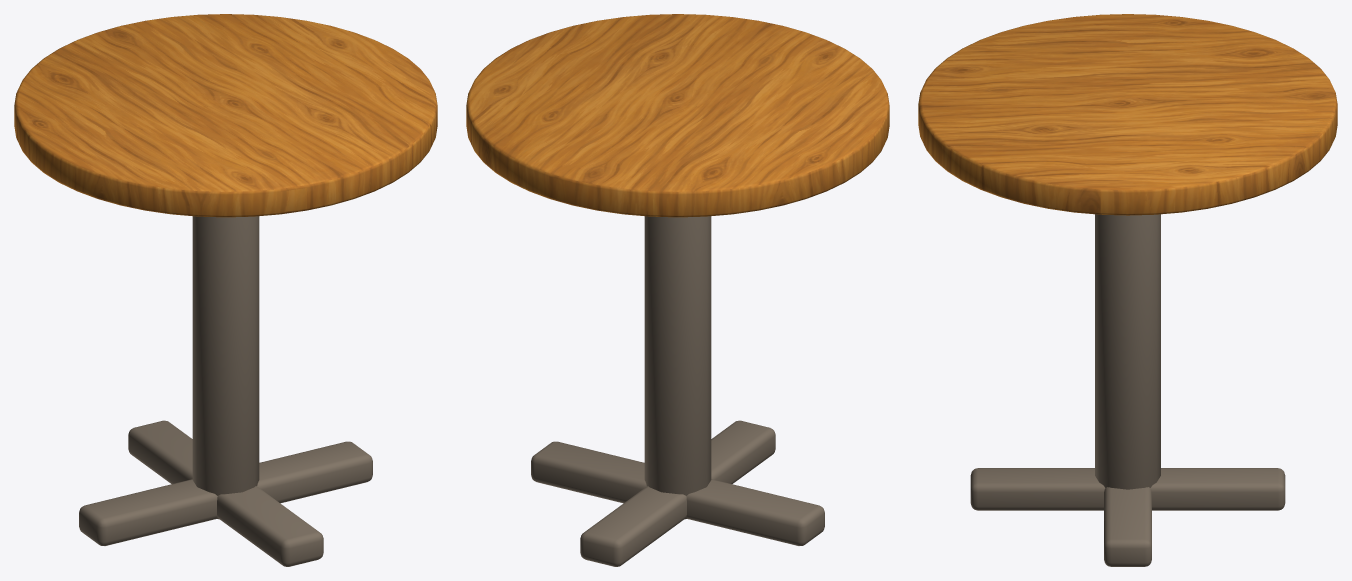
The model's file is patio-bistro-table.glb.
The picture shows the model from 3 angles, left to right: view 1: azimuth 30°, elevation 25°; view 2: azimuth 150°, elevation 25°; view 3: azimuth 270°, elevation 25°; orthographic projection.
Visible parts, largest first — view 1: patio-bistro-table; view 2: patio-bistro-table; view 3: patio-bistro-table.
Boxes of the visible parts, x1=… form: patio-bistro-table: x1=14, y1=14, x2=437, y2=566; patio-bistro-table: x1=466, y1=14, x2=889, y2=566; patio-bistro-table: x1=918, y1=14, x2=1337, y2=566.
Bounding box in the file's own units: 0.7 × 0.74 × 0.7.
2 materials, 1 textured.
